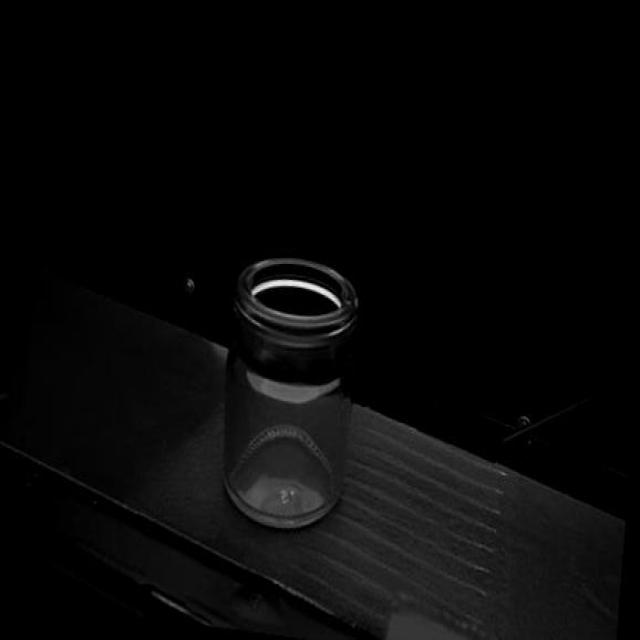defect: (344, 294, 360, 310)
glass: (208, 245, 368, 542)
